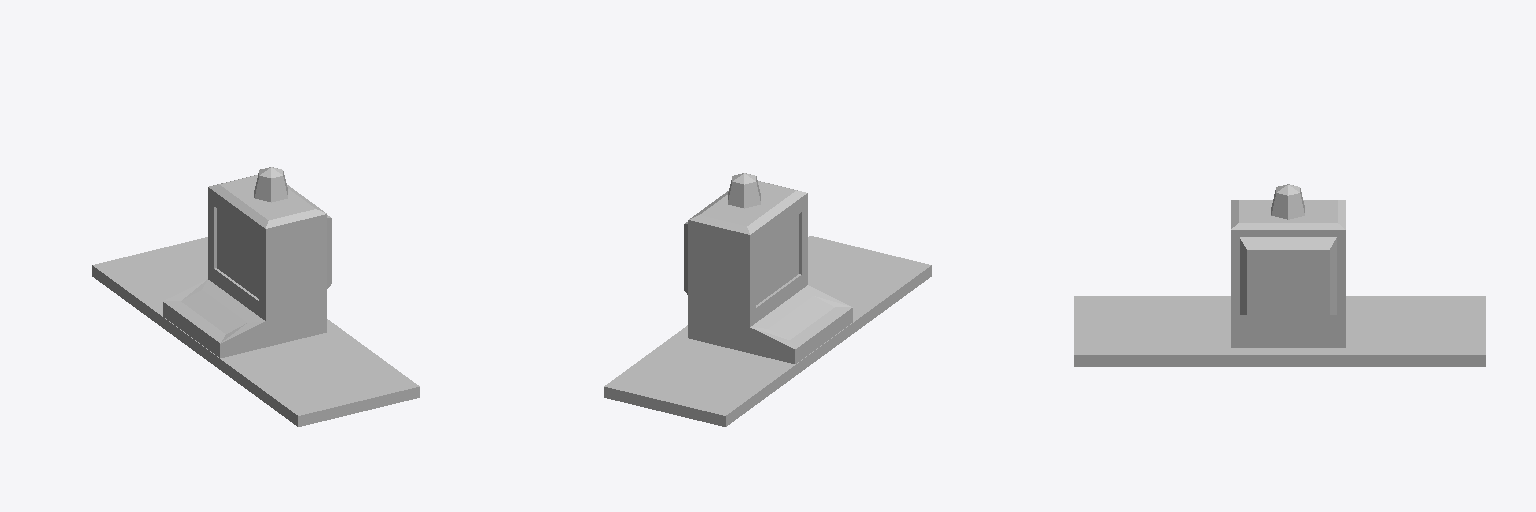
Rendered from heal_machine.obj.
3 views of the same model, side by side, from view 1: azimuth 30°, elevation 25°; view 2: azimuth 150°, elevation 25°; view 3: azimuth 270°, elevation 25° (orthographic).
Parts seen in each view (by area): view 1: Computer; view 2: Computer; view 3: Computer.
Part boxes in pixels (bbox=[...]): Computer: bbox=[92, 167, 419, 426]; Computer: bbox=[604, 173, 931, 426]; Computer: bbox=[1074, 184, 1485, 366].
Bounding box in the file's own units: 17 × 21.68 × 50.